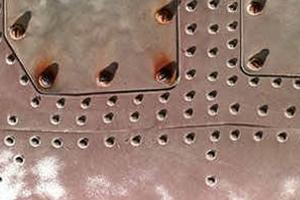rust: (27, 59, 64, 89), (151, 55, 179, 83), (149, 6, 175, 29)
